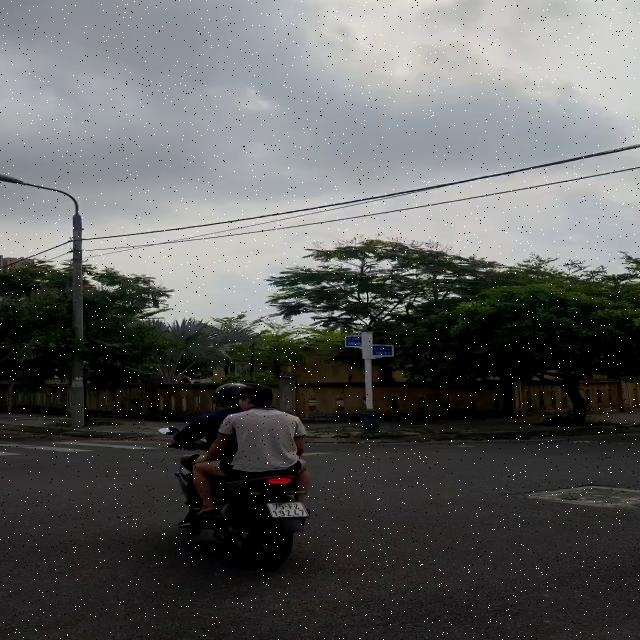helmet: (213, 383, 246, 406)
no_helmet: (238, 386, 280, 409)
